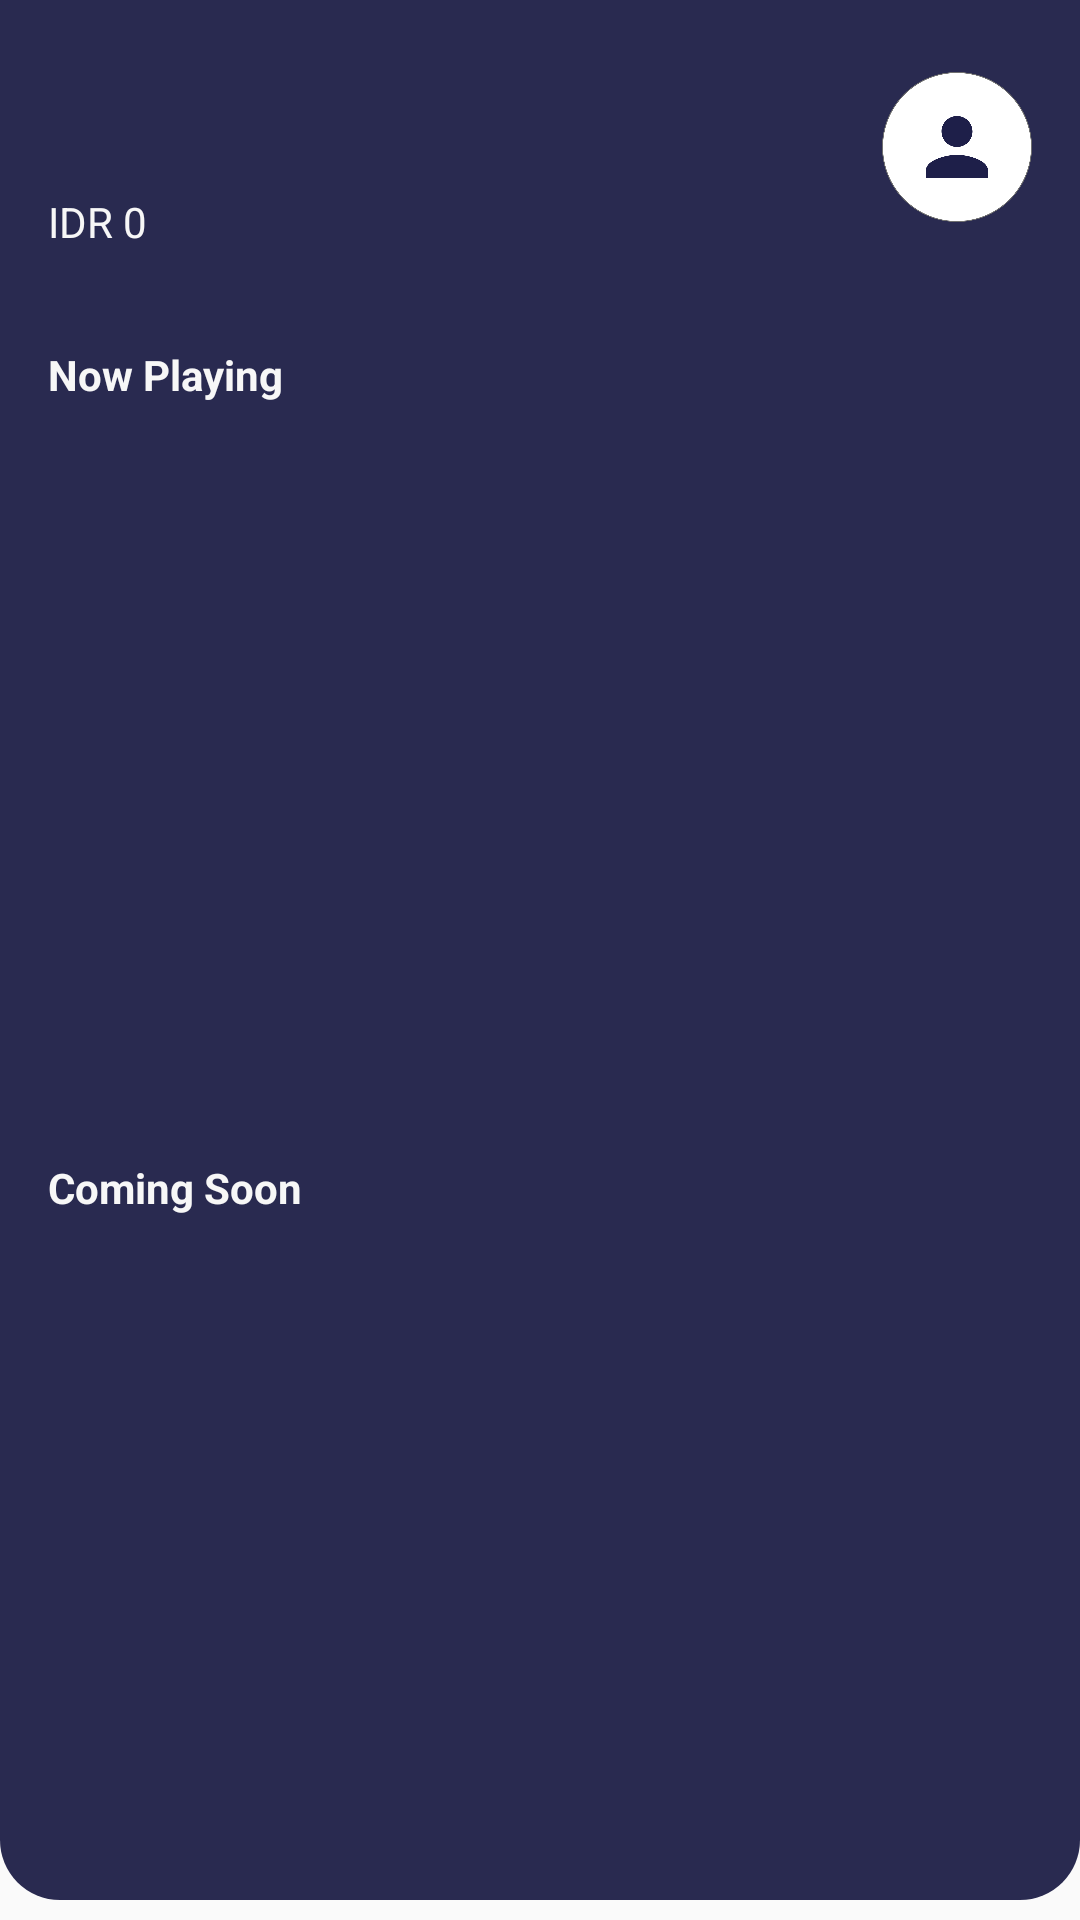

Icon click points for this 1080×1920 phone screenshot, format (x,y):
user pic: (957,147)
